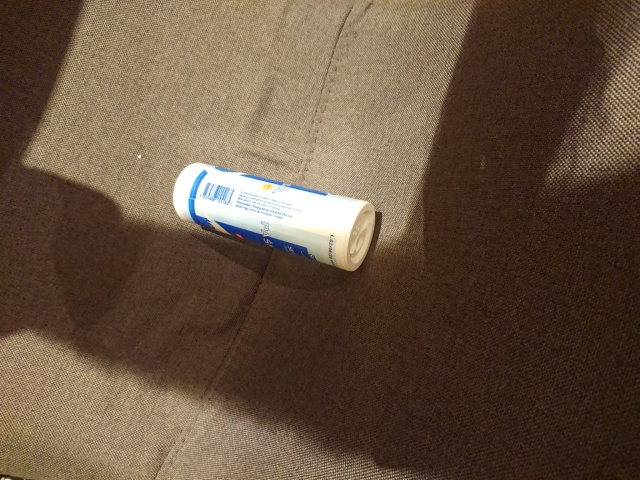Solana Pag Fine Sea Salt 250g: (169, 159, 379, 275)
